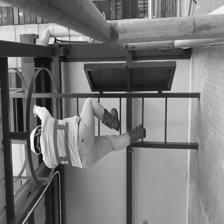Feet: (99, 97, 124, 122), (126, 125, 149, 146)
Hand: (26, 94, 47, 116)
Ladder: (14, 99, 202, 148)
